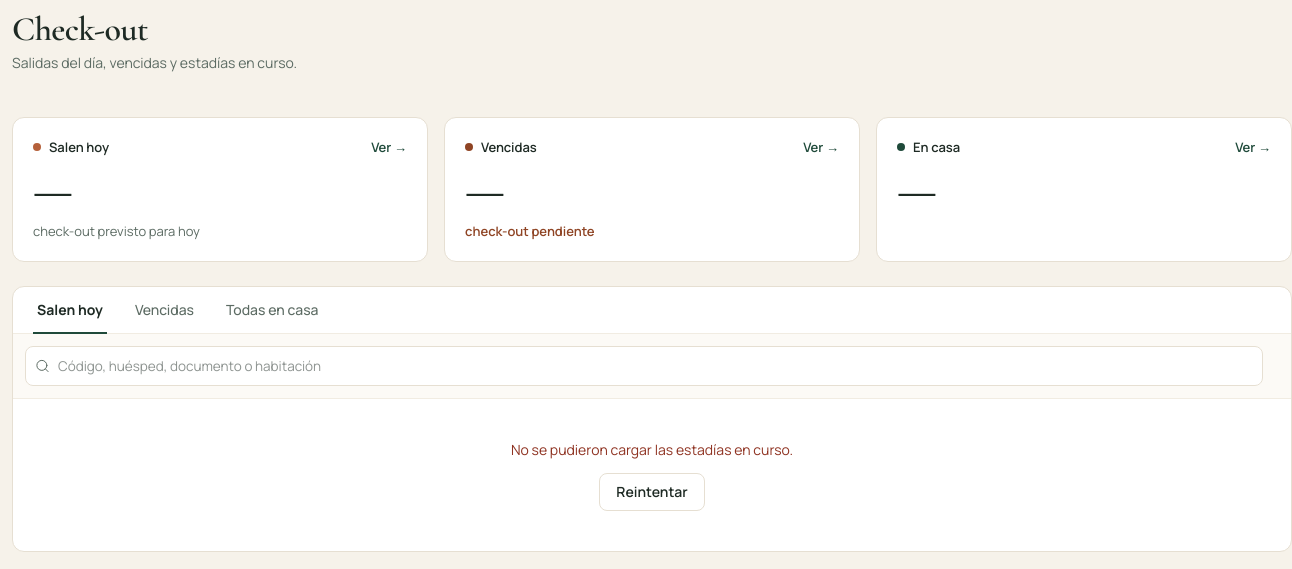
Test: CheckOutPage › error con reintento
Click the button "Reintentar" at coordinates (652, 492), box [599,473,705,511]
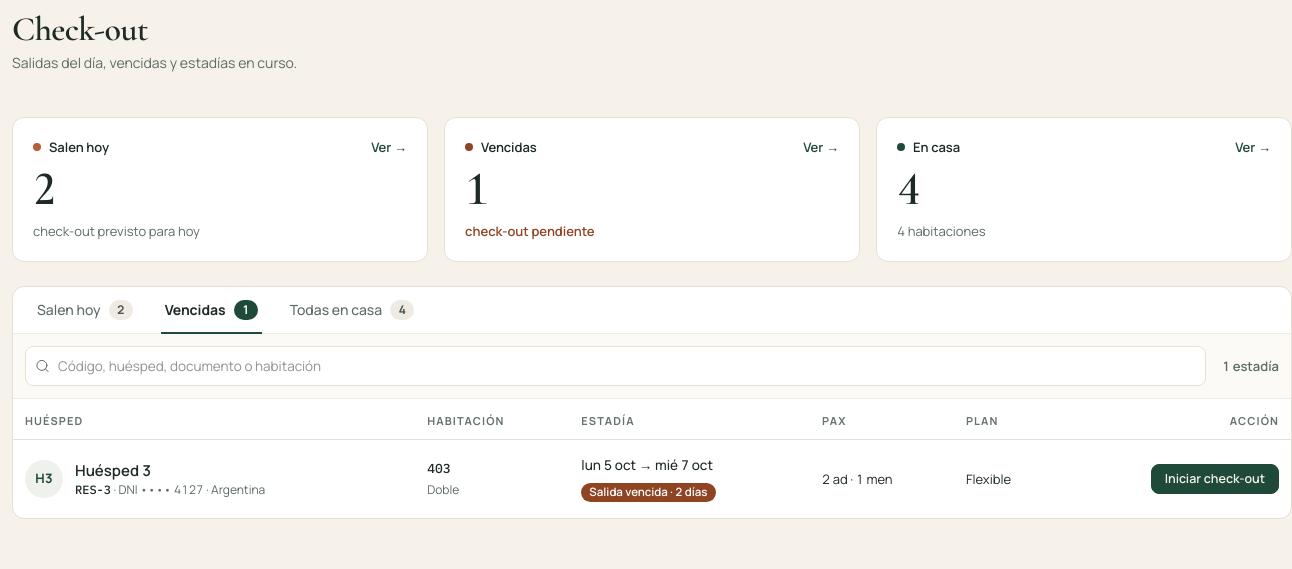
Expected: the text "RES-3" is shown, [75,482,111,497]
